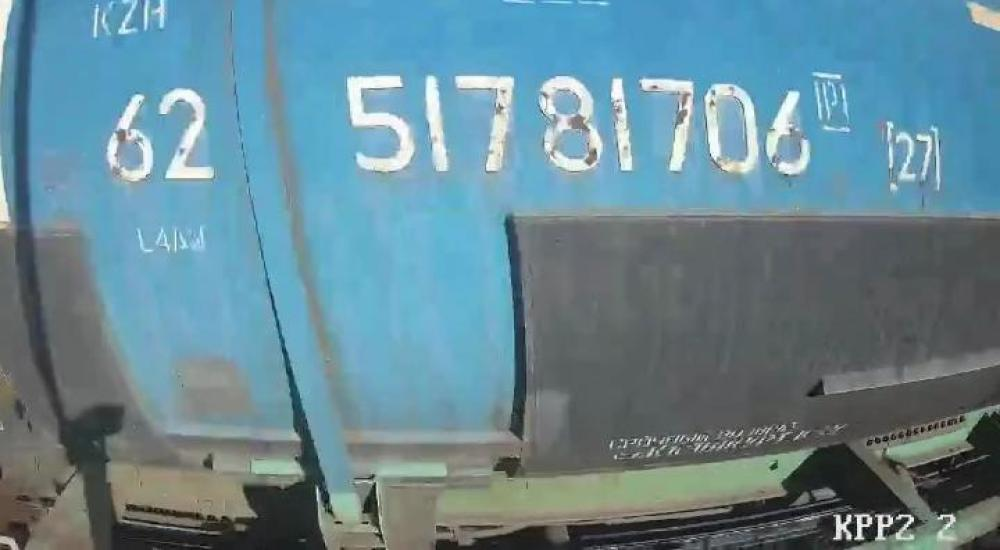Wagon-number: (340, 69, 816, 184)
